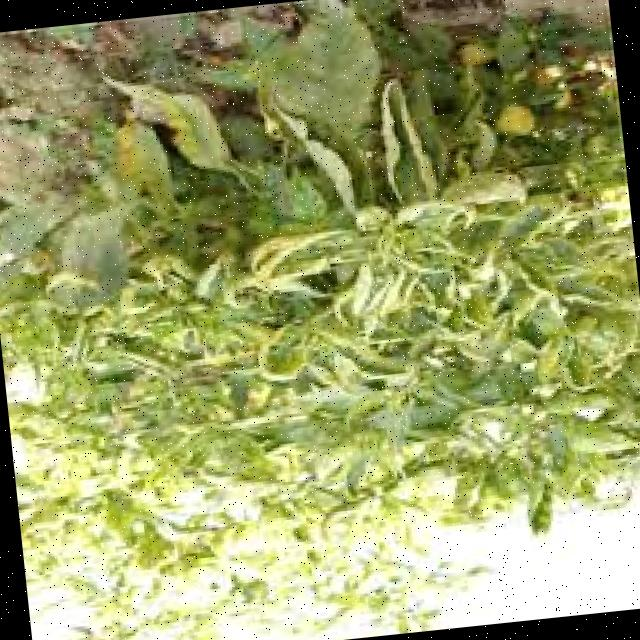leaf curl: (146, 112, 640, 508)
